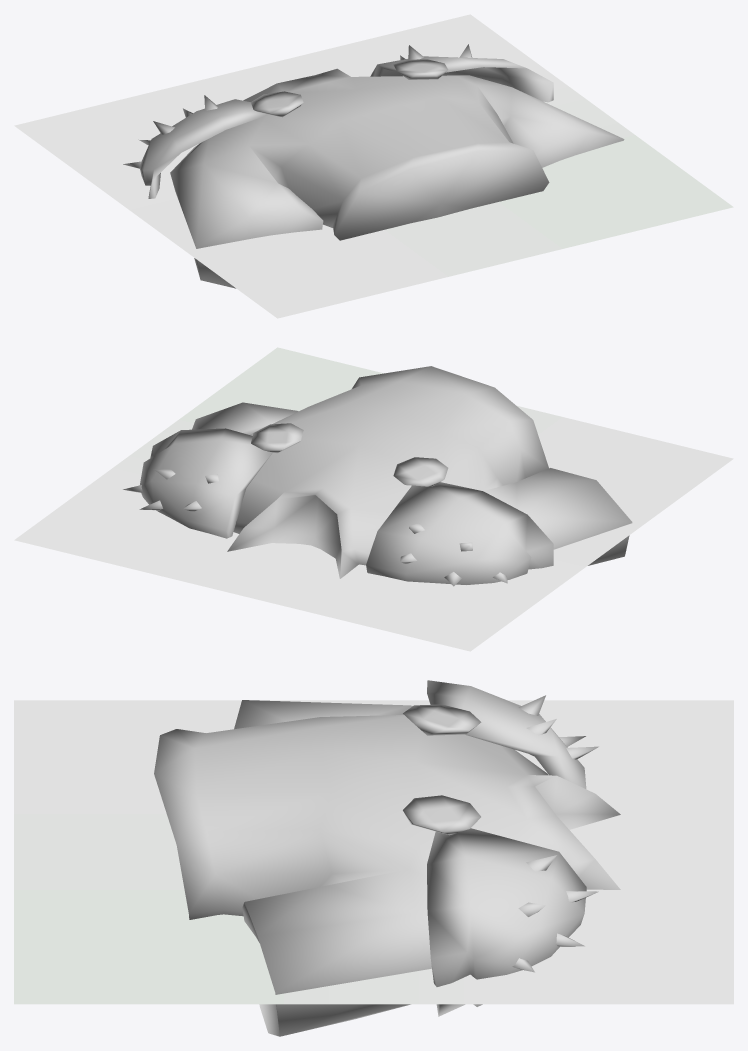
File: ITAR_ENDGAME.glb
3 views of the same model, one above another, from view 1: azimuth 30°, elevation 25°; view 2: azimuth 150°, elevation 25°; view 3: azimuth 270°, elevation 25° (orthographic). The views are drawn at different scales.
Visible parts, largest first — view 1: Mesh; view 2: Mesh; view 3: Mesh.
Part boxes in pixels (x1,y1,x2,y2): Mesh: [14, 14, 733, 318]; Mesh: [14, 347, 733, 651]; Mesh: [14, 680, 733, 1036].
Size of the model in its own units: 0.8355 by 0.2141 by 0.8355.
Materials: 2 (1 with a texture image).
